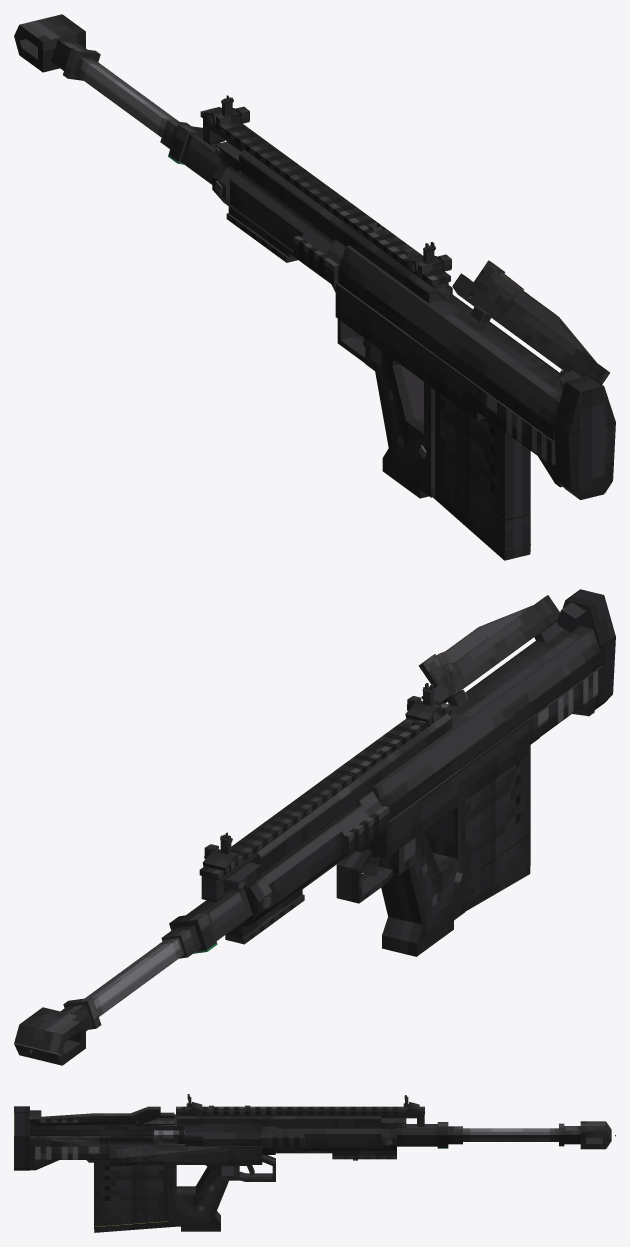
File: gm6lynx.obj
3 renders of one model, top to bottom at view 1: azimuth 30°, elevation 25°; view 2: azimuth 150°, elevation 25°; view 3: azimuth 270°, elevation 25°, orthographic. The views are drawn at different scales.
Parts seen in each view (by area): view 1: gun_106, magazine_5, actioncover_18, ironsights_9, ironsights_17; view 2: gun_106, magazine_5, actioncover_18, ironsights_17, ironsights_9; view 3: gun_106, magazine_5, actioncover_18, action_3, ironsights_9, ironsights_17.
Part boxes in pixels (<box>): gun_106: <box>14,14,615,499</box>; magazine_5: <box>433,367,530,560</box>; actioncover_18: <box>452,260,609,384</box>; ironsights_9: <box>406,242,451,274</box>; ironsights_17: <box>204,95,249,126</box>; gun_106: <box>14,589,615,1065</box>; magazine_5: <box>436,745,530,911</box>; actioncover_18: <box>418,595,559,703</box>; ironsights_17: <box>202,832,238,875</box>; ironsights_9: <box>405,683,441,726</box>; gun_106: <box>14,1106,611,1231</box>; magazine_5: <box>94,1162,174,1232</box>; actioncover_18: <box>30,1106,174,1126</box>; action_3: <box>154,1125,202,1144</box>; ironsights_9: <box>185,1094,202,1115</box>; ironsights_17: <box>402,1095,419,1115</box>.
Bounding box in the file's own units: 0.5469 × 1.74 × 7.05.
